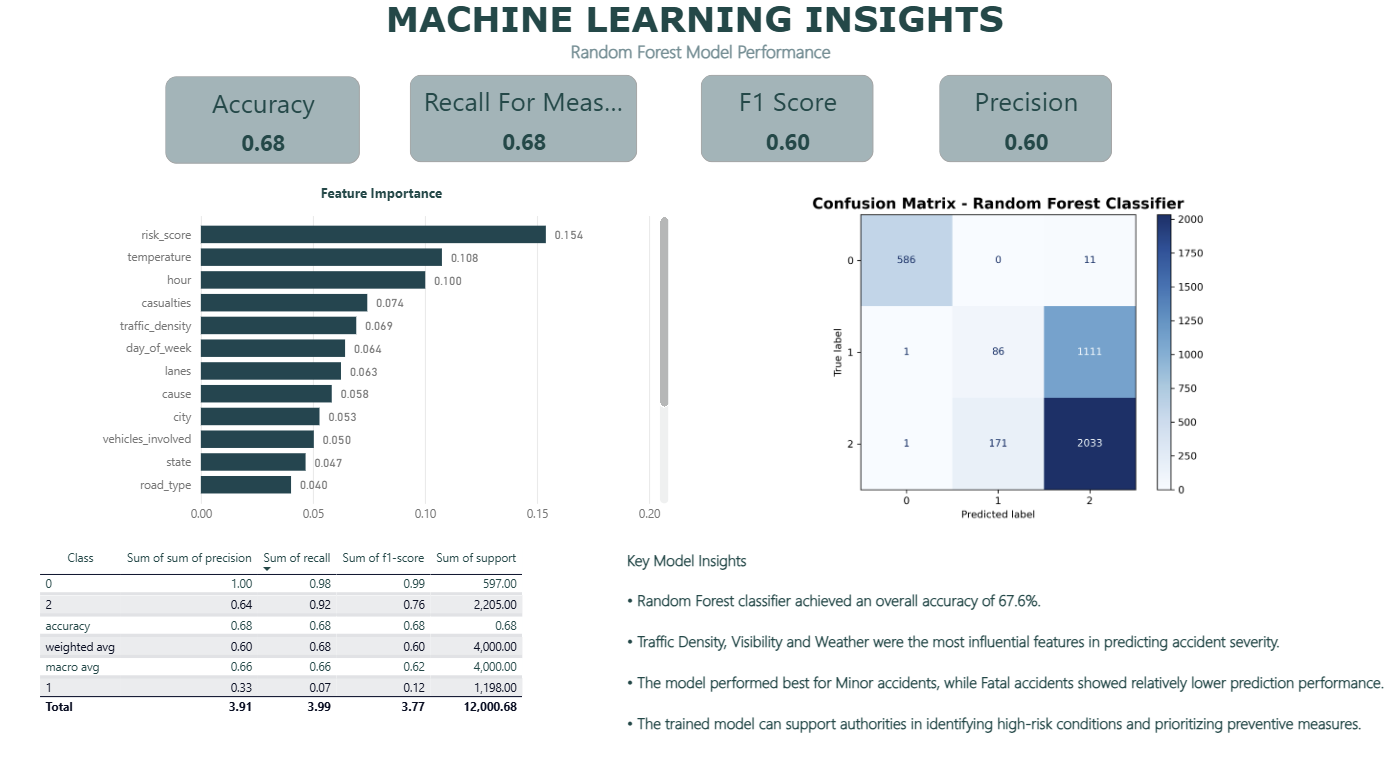

Layout of this report page (visuals, bound fields, positions):
{"tool":"powerbi","page":{"name":"MACHINE LEARNING INSIGHTS  ","canvas":[1280,720],"ordinal":4},"visuals":[{"type":"textbox","box":[10,0,1270,75],"z":0},{"type":"clusteredBarChart","title":"Feature Importance","fields":{"Category":["feature_importance.Feature"],"Y":["Sum(feature_importance.Importance)"]},"box":[85,176.7,535,318.3],"z":1000},{"type":"image","box":[645,177,561.3,318.4],"z":2000},{"type":"tableEx","fields":{"Values":["classification_report.Class","Sum(classification_report.precision)","Sum(classification_report.recall)","Sum(classification_report.f1-score)","Sum(classification_report.support)"]},"box":[34.3,505,524.2,200.4],"z":3000},{"type":"textbox","box":[571.7,505,708.3,190],"z":4000},{"type":"cardVisual","fields":{"Data":["classification_report.Accuracy"]},"box":[150,73.3,188.3,90],"z":5000},{"type":"cardVisual","fields":{"Data":["classification_report.Precision"]},"box":[858.3,71.7,168.3,90],"z":6000},{"type":"cardVisual","fields":{"Data":["classification_report.Recall For Measure"]},"box":[373.3,71.7,218.3,90],"z":7000},{"type":"cardVisual","fields":{"Data":["Accidents.F1 Score"]},"box":[640,71.7,168.3,90],"z":8000}]}

Visuals, with their boxes in screenshot pixels (x1, y1, x2, y2), scaled from the page's 1280x720 canvas onto the 1389x766 screenshot:
textbox: {"left": 11, "top": 0, "right": 1388, "bottom": 80}
"Feature Importance" clusteredBarChart: {"left": 92, "top": 188, "right": 673, "bottom": 527}
image: {"left": 700, "top": 188, "right": 1309, "bottom": 527}
tableEx - classification_report.Class x Sum(classification_report.precision): {"left": 37, "top": 537, "right": 606, "bottom": 750}
textbox: {"left": 620, "top": 537, "right": 1388, "bottom": 739}
cardVisual - classification_report.Accuracy: {"left": 163, "top": 78, "right": 367, "bottom": 174}
cardVisual - classification_report.Precision: {"left": 931, "top": 76, "right": 1114, "bottom": 172}
cardVisual - classification_report.Recall For Measure: {"left": 405, "top": 76, "right": 642, "bottom": 172}
cardVisual - Accidents.F1 Score: {"left": 694, "top": 76, "right": 877, "bottom": 172}
